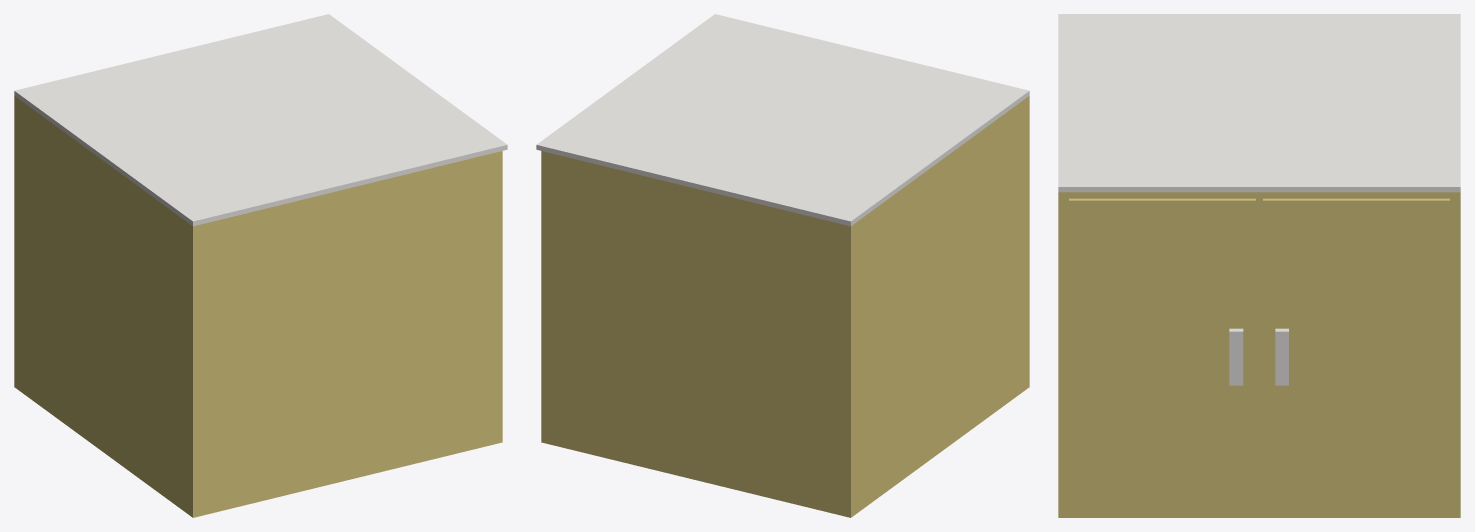
The model's file is KitchenTable5.fbx.
3 renders of one model, left to right at view 1: azimuth 30°, elevation 25°; view 2: azimuth 150°, elevation 25°; view 3: azimuth 270°, elevation 25°, orthographic. The views are drawn at different scales.
Visible parts, largest first — view 1: polySurface251; view 2: polySurface251; view 3: polySurface251.
Boxes of the visible parts, x1,y1,x2,y2 form: polySurface251: (14,14,507,517); polySurface251: (536,14,1029,517); polySurface251: (1058,14,1460,517).
Size of the model in its own units: 103 by 91.51 by 100.
